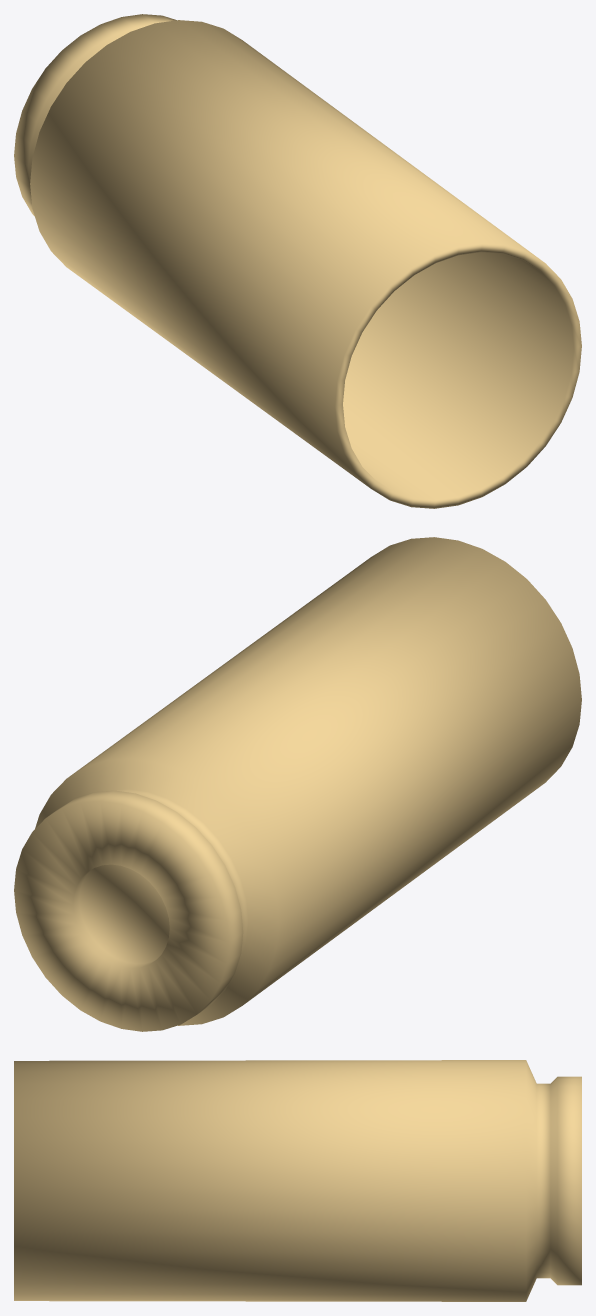
Rendered from casing_50ae.glb.
3 renders of one model, top to bottom at view 1: azimuth 30°, elevation 25°; view 2: azimuth 150°, elevation 25°; view 3: azimuth 270°, elevation 25°, orthographic. The views are drawn at different scales.
Visible parts, largest first — view 1: casing_50ae; view 2: casing_50ae; view 3: casing_50ae.
Boxes of the visible parts, x1=… form: casing_50ae: x1=14, y1=14, x2=581, y2=508; casing_50ae: x1=14, y1=537, x2=581, y2=1031; casing_50ae: x1=14, y1=1060, x2=581, y2=1301.
Size of the model in its own units: 0.0139 by 0.0139 by 0.0326.
